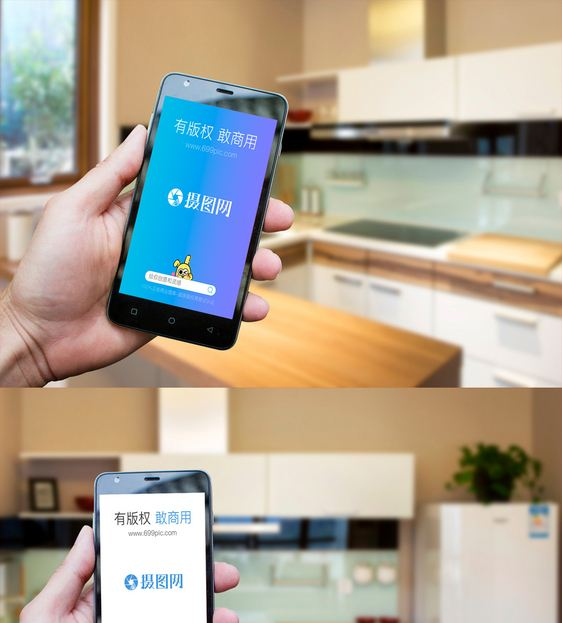phone: (48, 71, 303, 391), (24, 464, 223, 623)
